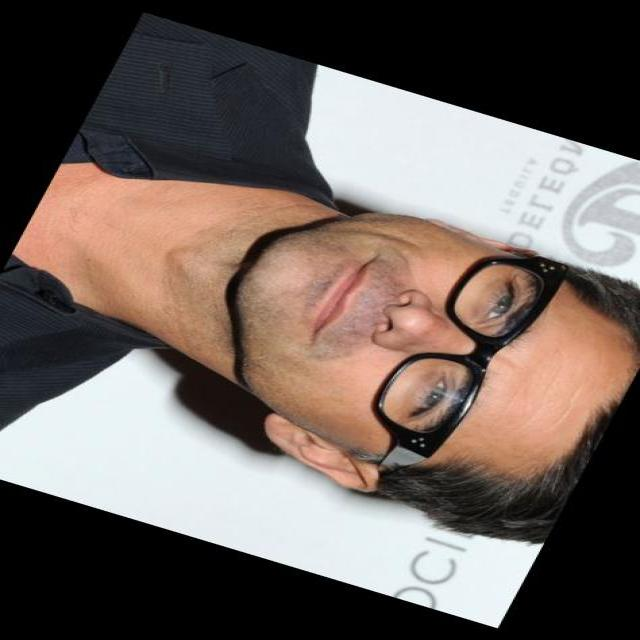glasses: (342, 232, 574, 490)
